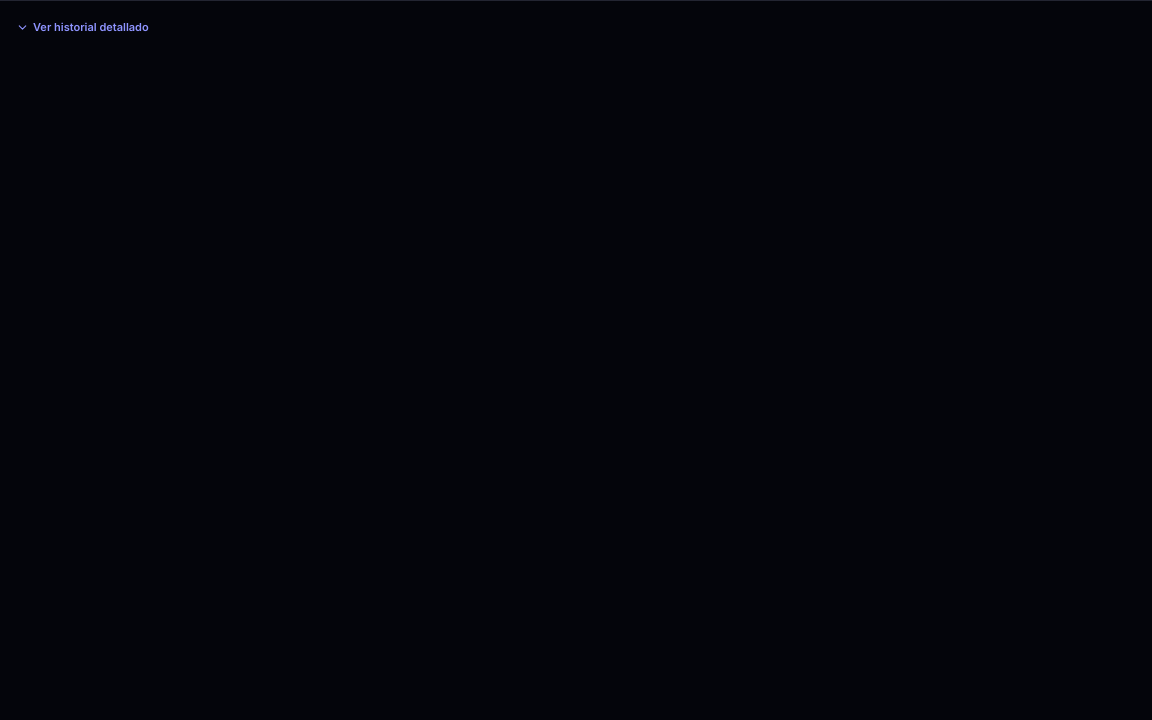
Test: BuyerHistoryDetail › al abrir muestra transportadoras con nombre (EC), ordenadas por volumen
Click the button "Ver historial detallado": (91, 27) [16,5,1136,49]
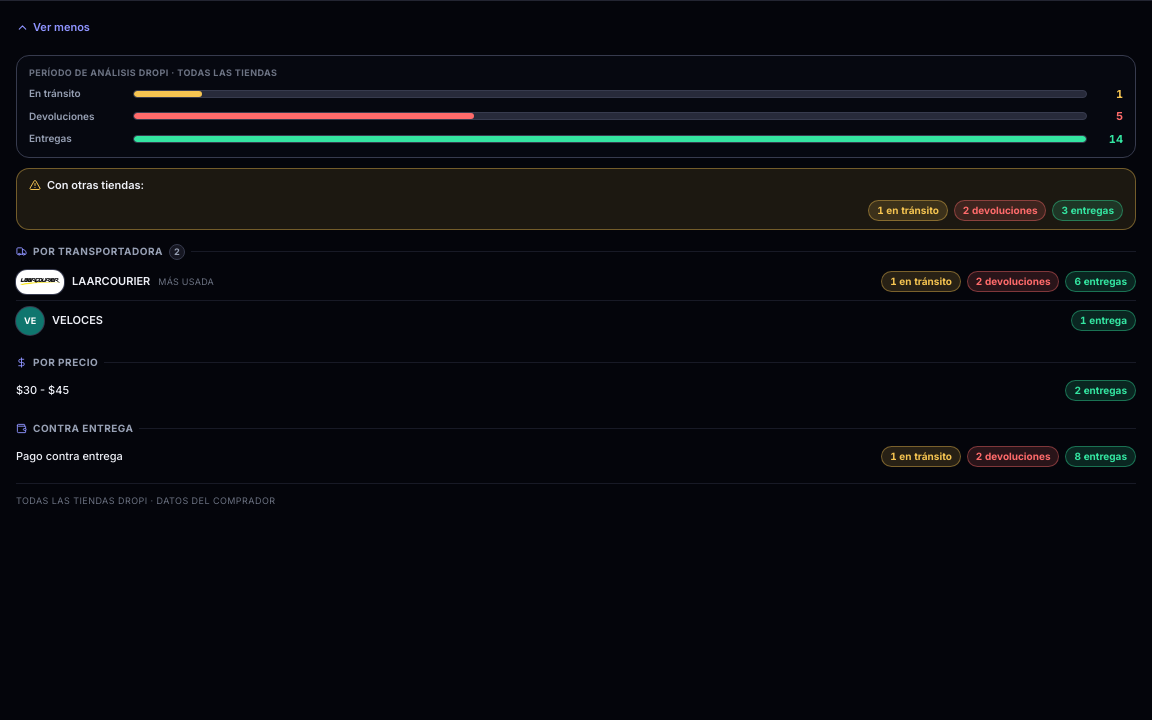
Now the text "Por transportadora" is shown, box [33,244,163,259]
Now the text "LAARCOURIER" is shown 2 times, box [72,273,150,290]; [52,312,103,329]
Now the text "LAARCOURIER" is shown, box [72,273,150,290]
